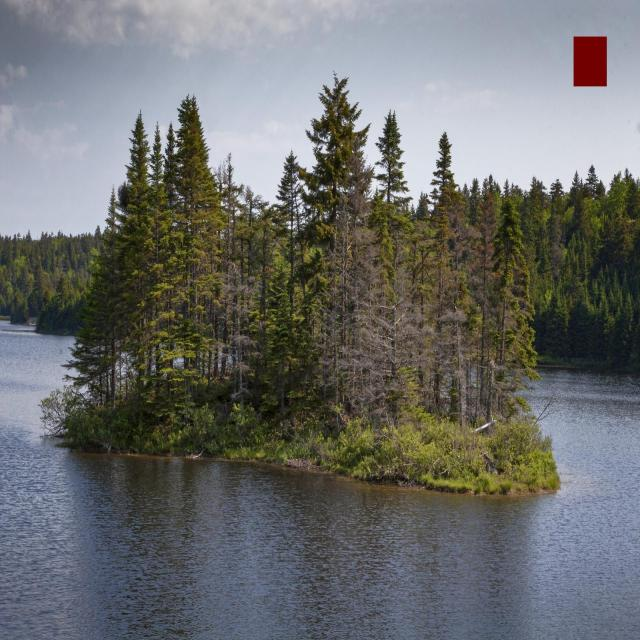RedSquare: (570, 32, 618, 94)
